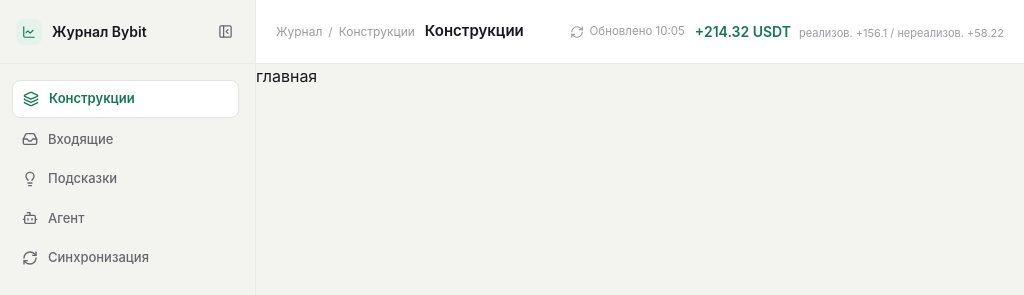
сегмент страницы › экран «Синхронизация» без регистрации показывает крошку и заголовок раздела, контекст скрыт
The width and height of the screenshot is (1024, 295).
Note: переход в раздел «Синхронизация».
Click the link "Синхронизация": click(86, 257) x1=22 y1=249 x2=149 y2=266
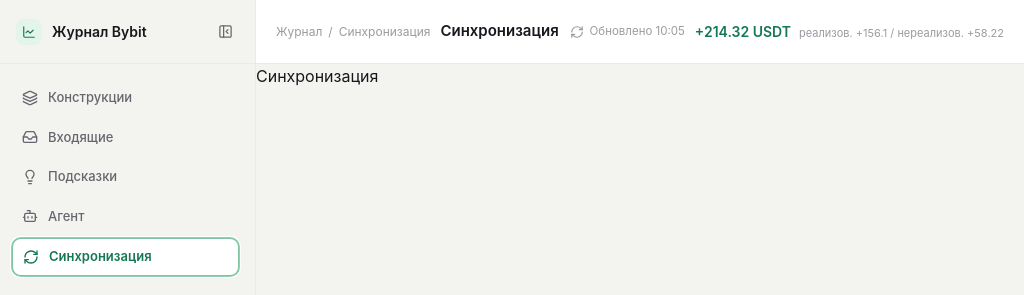
Result: the heading "Синхронизация" is shown at x1=256 y1=66 x2=378 y2=86
Result: the navigation bar named "Крошка раздела" reads "Журнал / Синхронизация" at x1=276 y1=24 x2=430 y2=40
Result: the text with test id "topbar-page-title" reads "Синхронизация" at x1=440 y1=21 x2=559 y2=40
